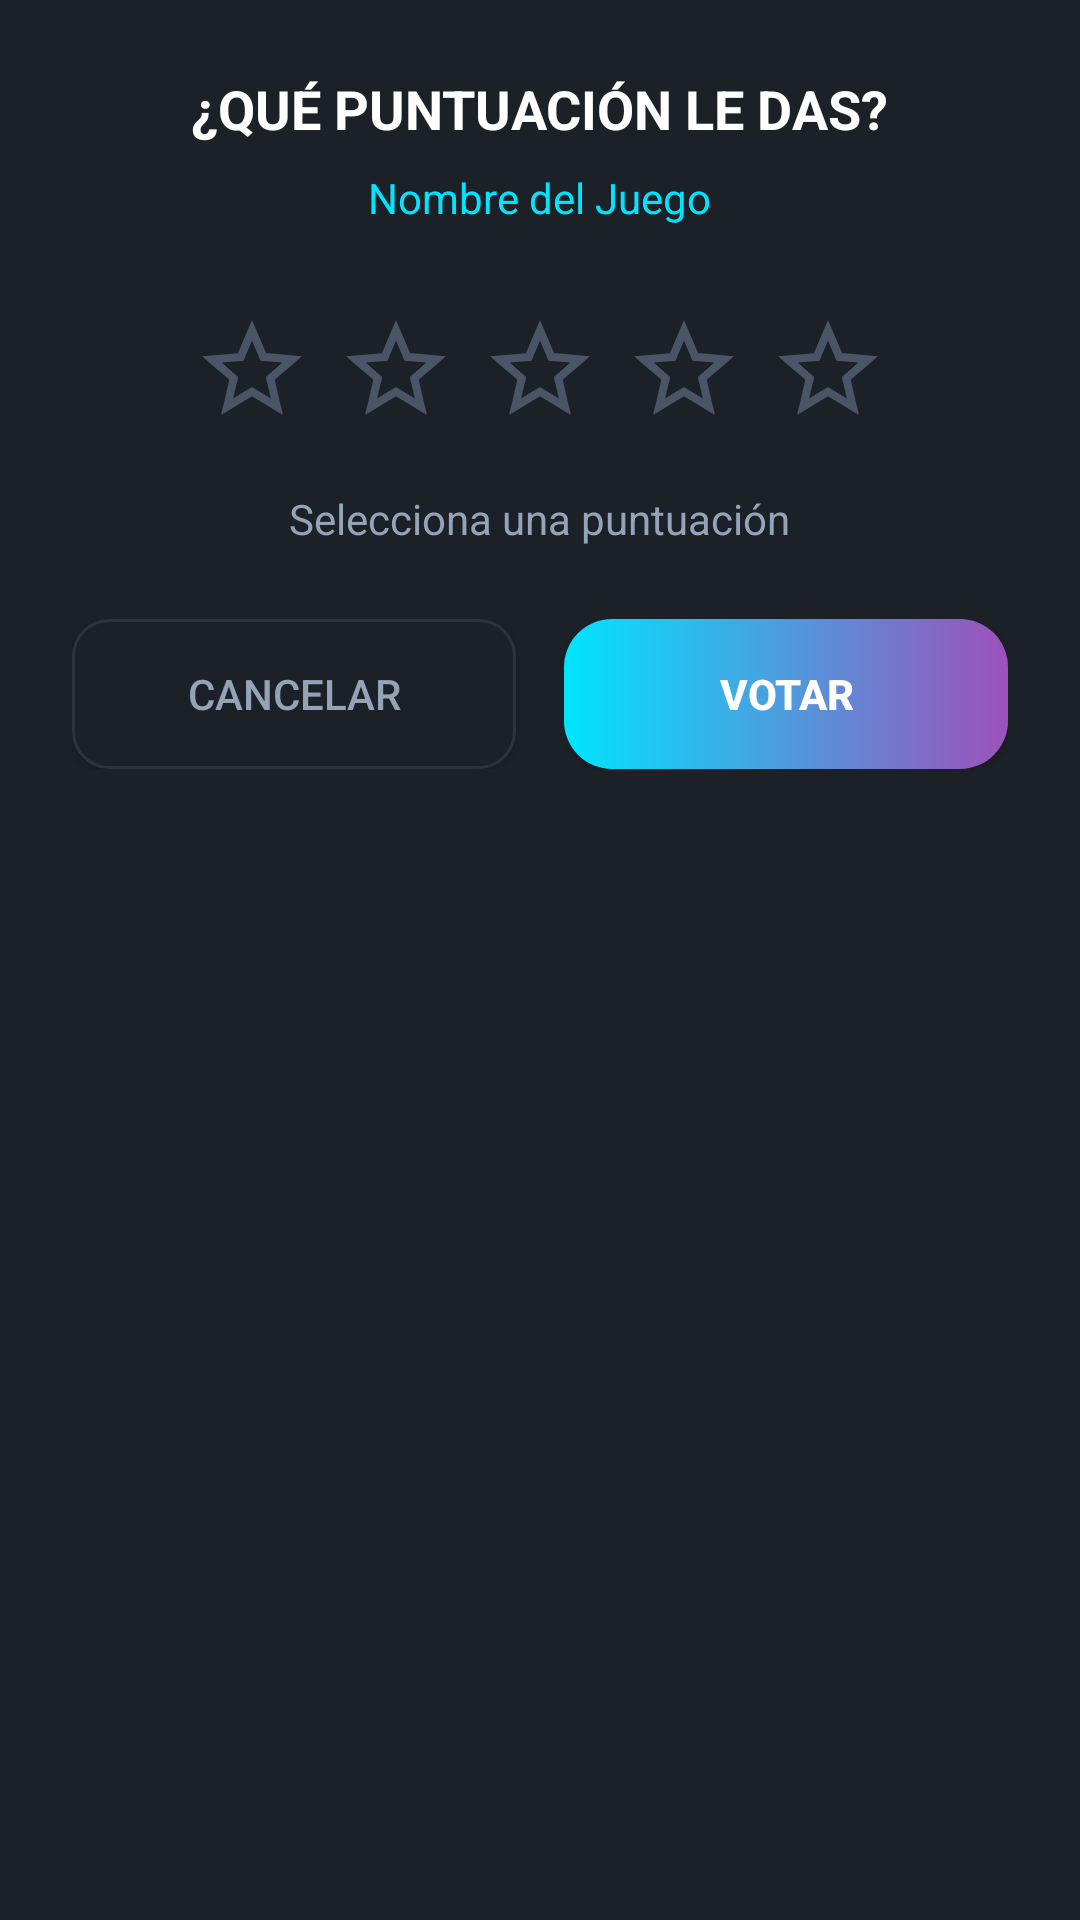

Where icons sit on this 1080w x 1920h app screen, as (x1, y1, x2, y2):
star: (202, 321, 302, 415), (346, 321, 446, 415), (490, 321, 590, 415), (634, 321, 734, 415), (778, 321, 878, 415)
